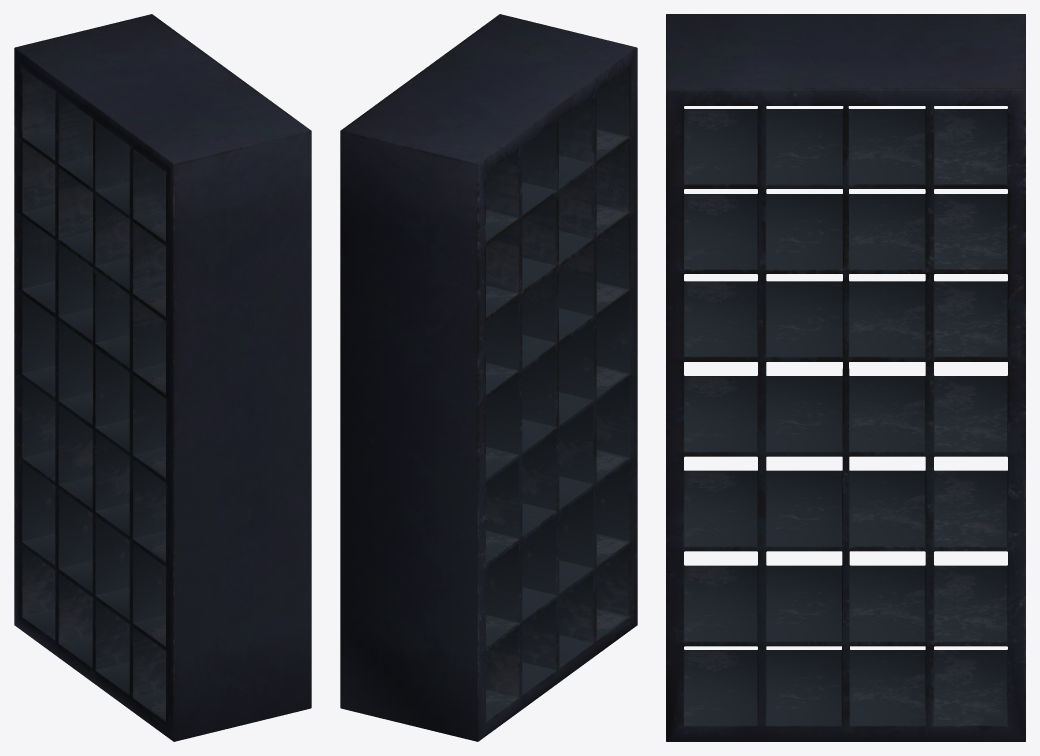
Rendered from rack_03.gltf.
3 renders of one model, left to right at view 1: azimuth 30°, elevation 25°; view 2: azimuth 150°, elevation 25°; view 3: azimuth 270°, elevation 25°, orthographic. The views are drawn at different scales.
Parts seen in each view (by area): view 1: rack_03; view 2: rack_03; view 3: rack_03.
Part boxes in pixels (x1,y1,x2,y2): rack_03: (14, 14, 311, 741); rack_03: (340, 14, 637, 741); rack_03: (666, 14, 1025, 741).
Bounding box in the file's own units: 0.805 × 3.22 × 1.61.
Materials: 1 (1 with a texture image).
